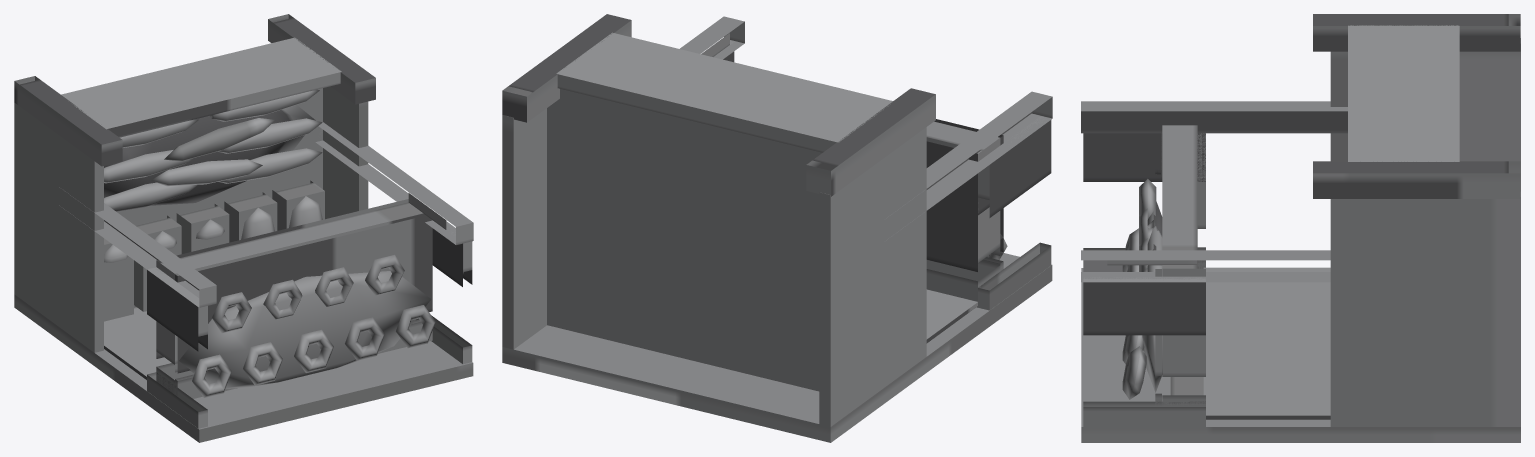
3 renders of one model, left to right at view 1: azimuth 30°, elevation 25°; view 2: azimuth 150°, elevation 25°; view 3: azimuth 270°, elevation 25°, orthographic. The views are drawn at different scales.
Size of the model in its own units: 0.861 by 0.6805 by 1.01.
